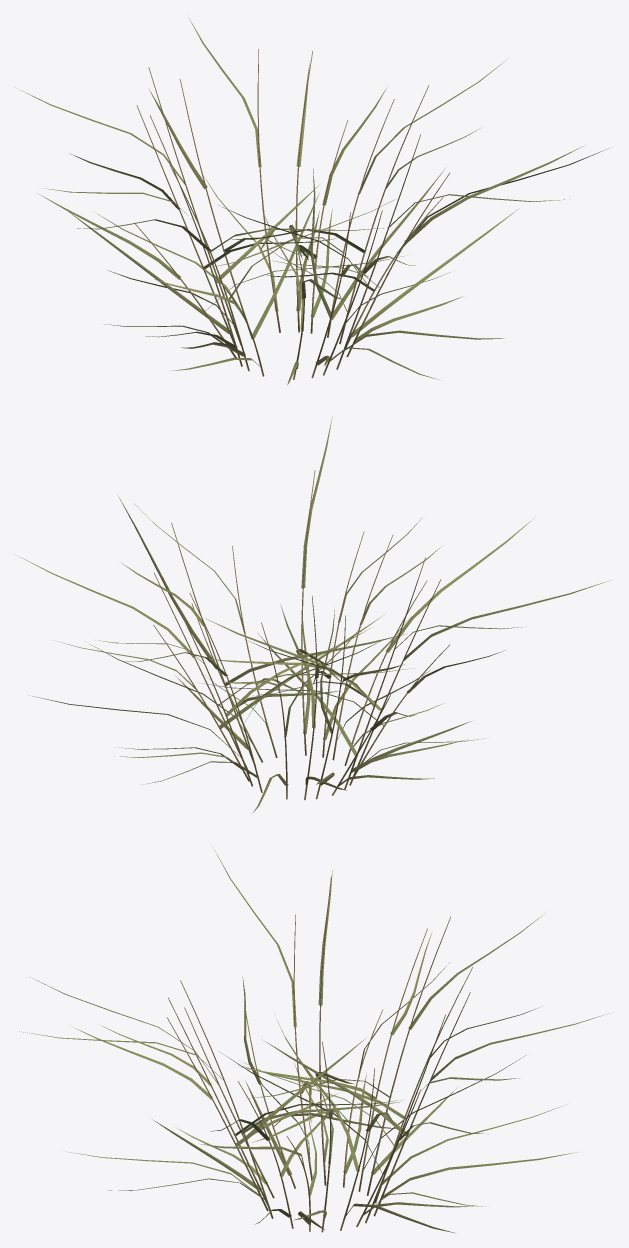
The model's file is Herbes_2_Niveau0.fbx.
3 views of the same model, one above another, from view 1: azimuth 30°, elevation 25°; view 2: azimuth 150°, elevation 25°; view 3: azimuth 270°, elevation 25° (orthographic). The views are drawn at different scales.
Parts seen in each view (by area): view 1: Herbes_2_Niveau0_Jeu; view 2: Herbes_2_Niveau0_Jeu; view 3: Herbes_2_Niveau0_Jeu.
Part boxes in pixels (left/top/right/bottom): Herbes_2_Niveau0_Jeu: left=15, top=17, right=608, bottom=384; Herbes_2_Niveau0_Jeu: left=15, top=416, right=609, bottom=813; Herbes_2_Niveau0_Jeu: left=19, top=849, right=608, bottom=1233.
Size of the model in its own units: 72.63 by 34.91 by 71.36.
